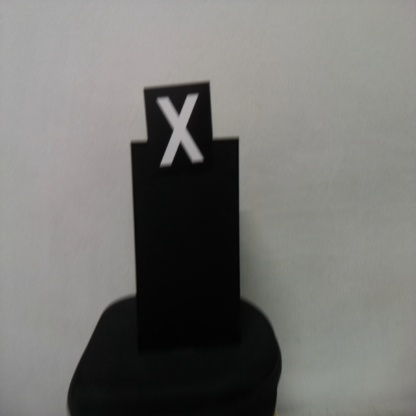id_13: (143, 87, 213, 176)
